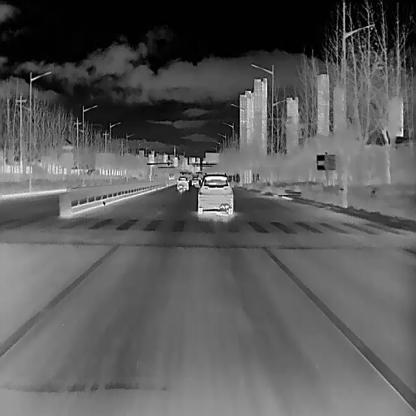car: (197, 172, 233, 214), (175, 175, 188, 190), (191, 176, 199, 185)
